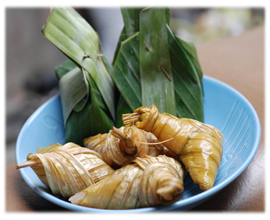kanomtom: (124, 97, 229, 192), (63, 149, 189, 212)
